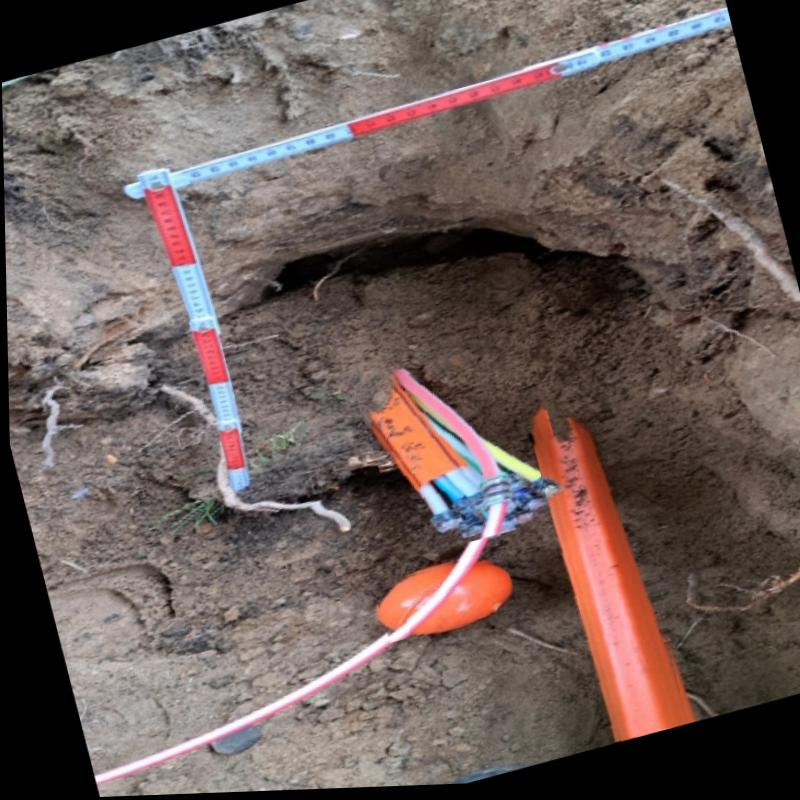Kugelmarker: (374, 565, 508, 635)
Orang-Speednetrohrchen: (533, 435, 684, 745), (362, 381, 564, 542)
